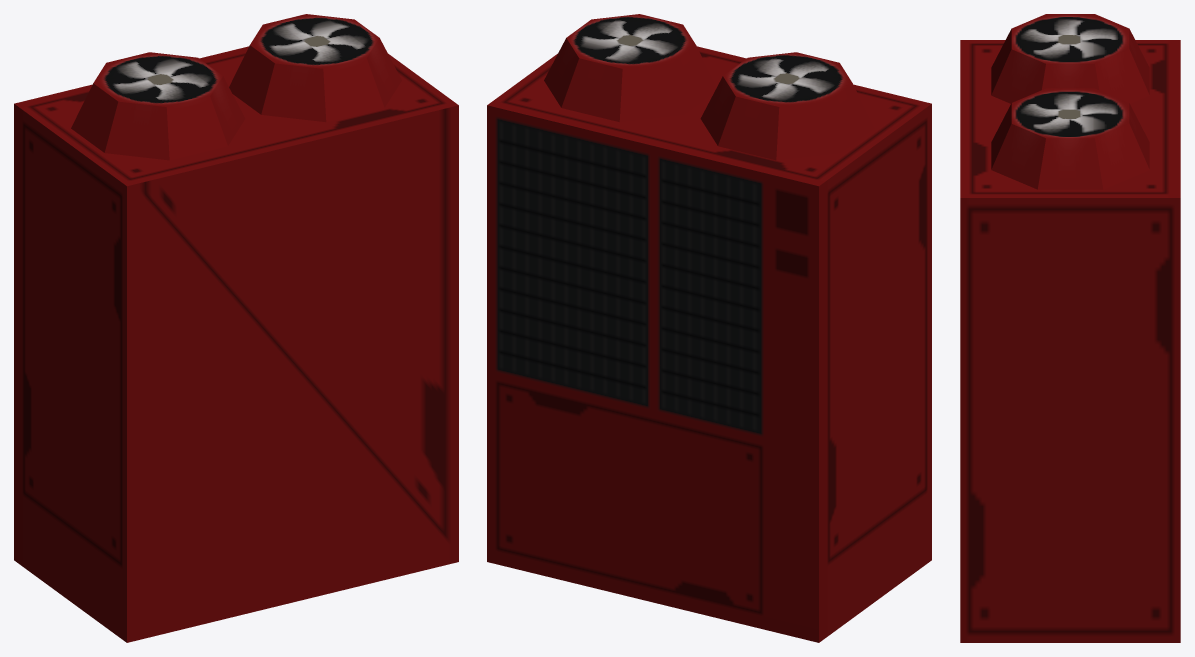
Rendered from Appliance_2.fbx.
3 renders of one model, left to right at view 1: azimuth 30°, elevation 25°; view 2: azimuth 150°, elevation 25°; view 3: azimuth 270°, elevation 25°, orthographic. The views are drawn at different scales.
Parts seen in each view (by area): view 1: Appliance.050; view 2: Appliance.050; view 3: Appliance.050.
Part boxes in pixels (x1=…): Appliance.050: x1=14, y1=14, x2=458, y2=642; Appliance.050: x1=487, y1=14, x2=931, y2=642; Appliance.050: x1=960, y1=14, x2=1180, y2=642.
Bounding box in the file's own units: 106 × 153 × 62.73.
